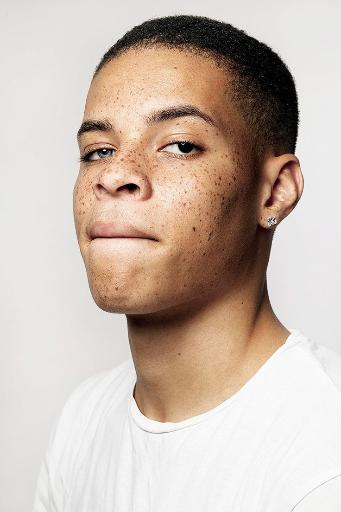left_eye: (157, 139, 210, 165)
left_lip_corner: (151, 231, 164, 249)
right_eye: (81, 147, 117, 167)
right_lip_corner: (89, 228, 104, 247)
